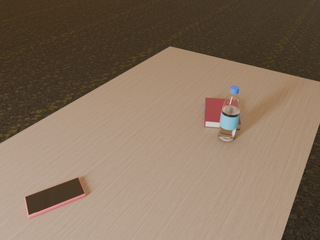book: (205, 98, 241, 130)
bottle: (218, 86, 241, 142)
phone: (24, 178, 86, 218)
